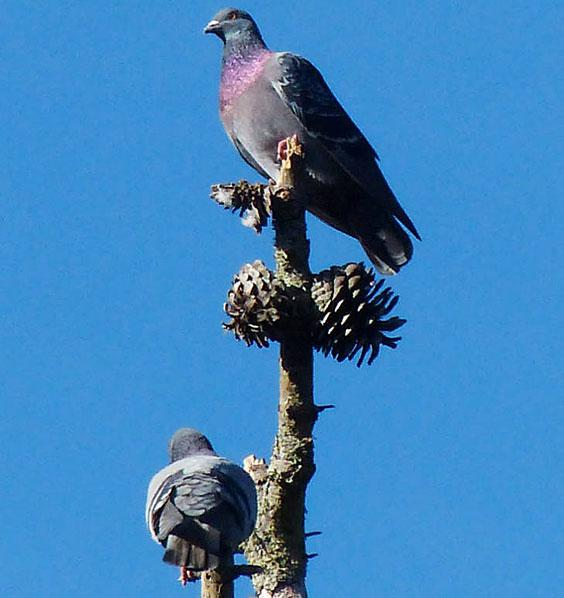Flying Rat: (201, 13, 417, 257), (137, 428, 258, 574)
